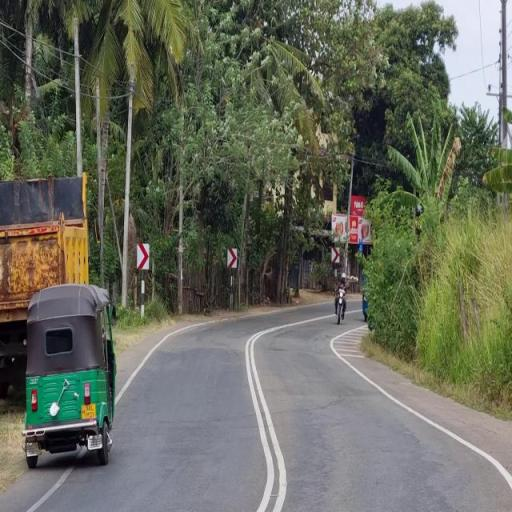double_white_line: (332, 323, 511, 490), (245, 326, 290, 511)
